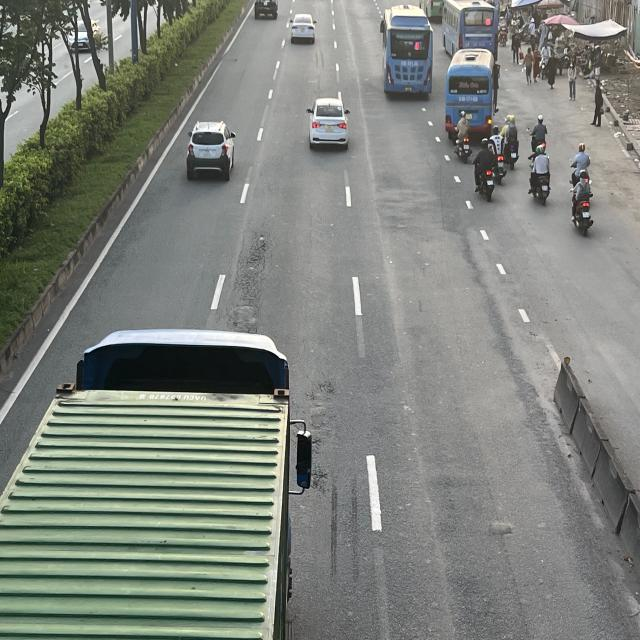car: (188, 121, 238, 180), (307, 99, 353, 152), (288, 13, 316, 44)
coach: (382, 3, 436, 97), (444, 48, 497, 140), (440, 0, 497, 53)
